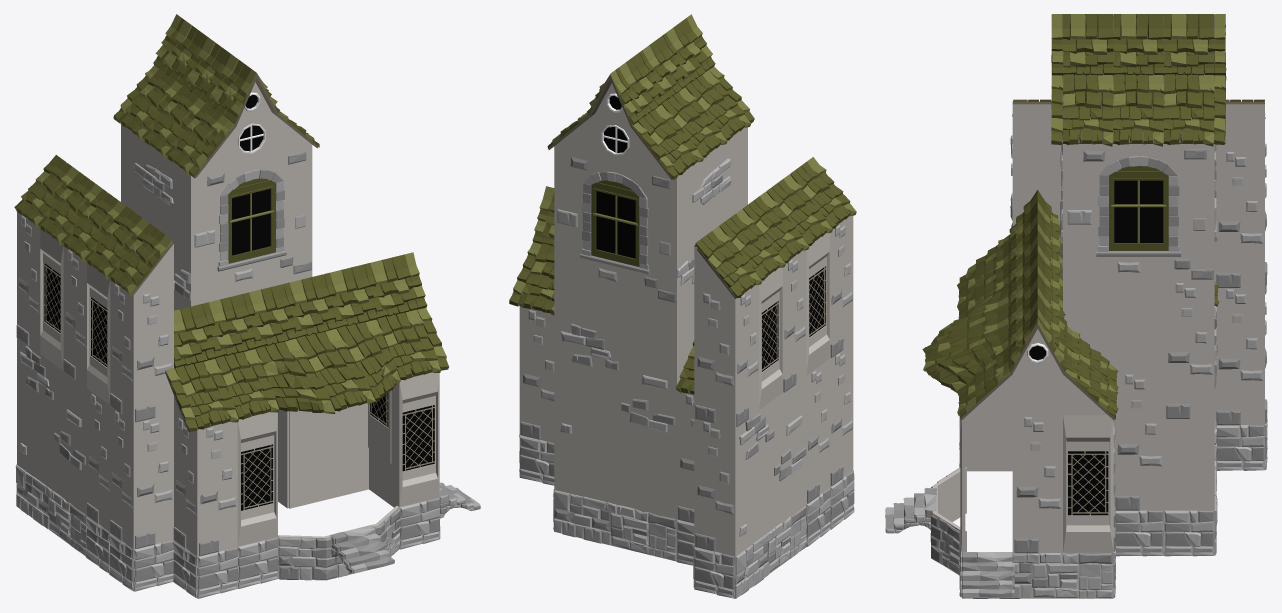
Rendered from HOUSE_14_PARTS.fbx.
The picture shows the model from 3 angles, left to right: view 1: azimuth 30°, elevation 25°; view 2: azimuth 150°, elevation 25°; view 3: azimuth 270°, elevation 25°; orthographic projection. The views are drawn at different scales.
Parts seen in each view (by area): view 1: WINDOW_05_10, ROOF_base_round_2, WALL_01_3, WALL_03_3, WINDOW_04_3, WALL_06_6, WINDOW_04_4, WALL_06_5, WALL_06_13, FOUNDATION_01_2, WALL_06_15, WALL_06_11 (+48 smaller); view 2: WALL_01_2, WINDOW_05_11, WALL_01_3, WALL_03_3, WALL_06_22, FOUNDATION_03_3, WALL_06_20, WALL_06_7, WALL_06_11, WALL_06_17, WALL_06_16, FOUNDATION_03_2 (+40 smaller); view 3: WINDOW_05_12, WALL_06_3, WINDOW_04_2, WALL_06_9, WALL_06_26, WALL_06_4, WALL_06_24, ROOF_base_round_2, FOUNDATION_03_4, ROOF_BASE_17, ROOF_BASE_18, ROOF_BASE_19 (+50 smaller).
Boxes of the visible parts, x1,y1,x2,y2 form: WINDOW_05_10: (191,145,312,300); ROOF_base_round_2: (255,319,400,413); WALL_01_3: (17,338,86,514); WALL_03_3: (121,125,193,300); WINDOW_04_3: (397,372,439,506); WALL_06_6: (133,412,173,548); WINDOW_04_4: (237,412,277,546); WALL_06_5: (197,421,237,556); WALL_06_13: (133,286,173,422); FOUNDATION_01_2: (278,506,400,580); WALL_06_15: (86,388,110,531); WALL_06_11: (110,406,134,549); WALL_01_2: (554,317,677,475); WINDOW_05_11: (554,146,677,304); WALL_01_3: (733,376,806,555); WALL_03_3: (674,127,747,304); WALL_06_22: (694,289,735,427); FOUNDATION_03_3: (554,489,676,561); WALL_06_20: (694,418,735,555); WALL_06_7: (519,306,554,442); WALL_06_11: (829,341,853,486); WALL_06_17: (782,250,806,392); WALL_06_16: (829,215,853,358); FOUNDATION_03_2: (734,504,806,598); WINDOW_05_12: (1063,144,1214,281); WALL_06_3: (1012,415,1062,553); WINDOW_04_2: (1063,415,1113,552); WALL_06_9: (1164,281,1214,418); WALL_06_26: (1214,150,1264,287); WALL_06_4: (1113,372,1163,510); WALL_06_24: (1214,287,1264,425); ROOF_base_round_2: (922,283,1008,392); FOUNDATION_03_4: (962,552,1113,598); ROOF_BASE_17: (1062,73,1113,146); ROOF_BASE_18: (1113,73,1164,146); ROOF_BASE_19: (1163,73,1214,146).
Size of the model in its own units: 812 by 1114 by 757.
